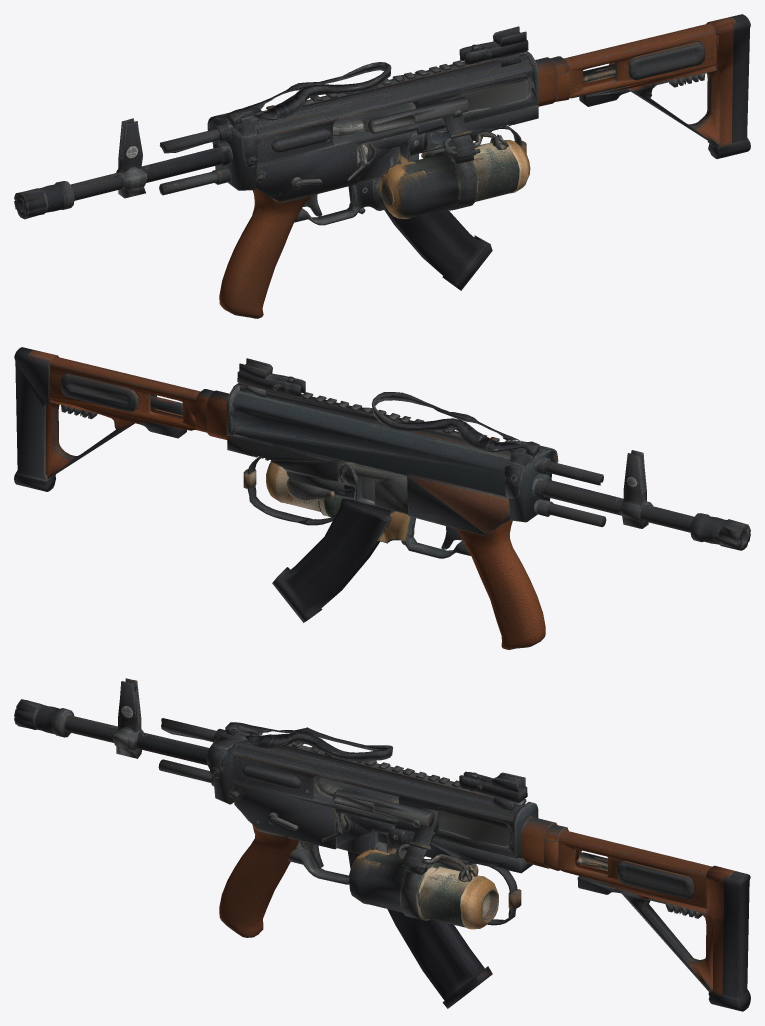
The model's file is wpn_nailgun_rifle.glb.
3 renders of one model, top to bottom at view 1: azimuth 30°, elevation 25°; view 2: azimuth 150°, elevation 25°; view 3: azimuth 330°, elevation 25°, orthographic.
Bounding box in the file's own units: 0.9546 × 0.3076 × 0.1118.
1 material, 1 textured.
